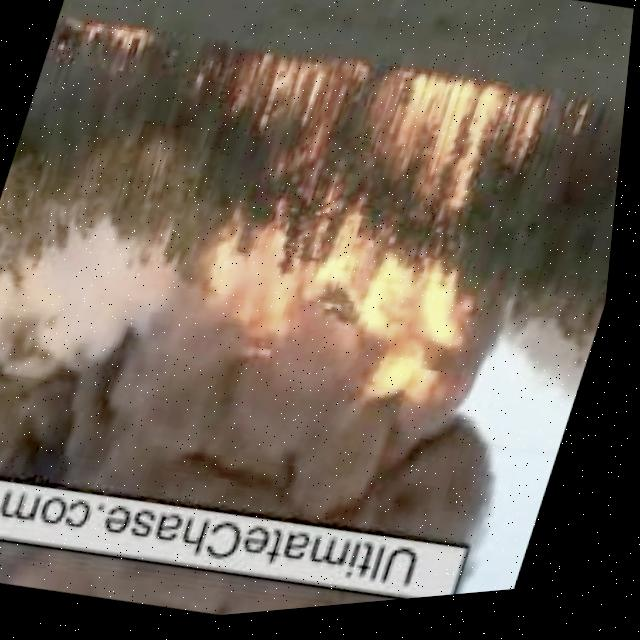Fire: (141, 29, 562, 439), (63, 12, 175, 72)
Smoke: (0, 293, 544, 595), (0, 486, 481, 640), (0, 200, 179, 376)
